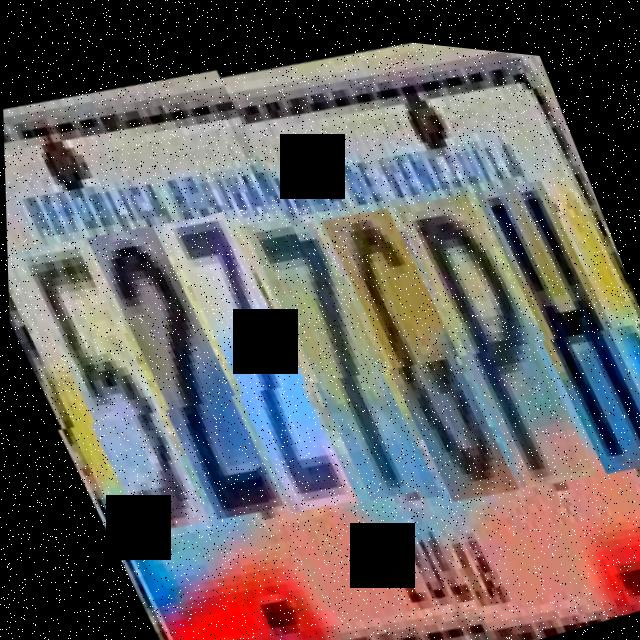2: (85, 211, 283, 539)
5: (11, 228, 208, 555)
7: (241, 193, 434, 512)
G: (315, 177, 512, 504)
H: (466, 142, 640, 468)
P: (389, 158, 590, 488)
Z: (159, 196, 356, 530)
